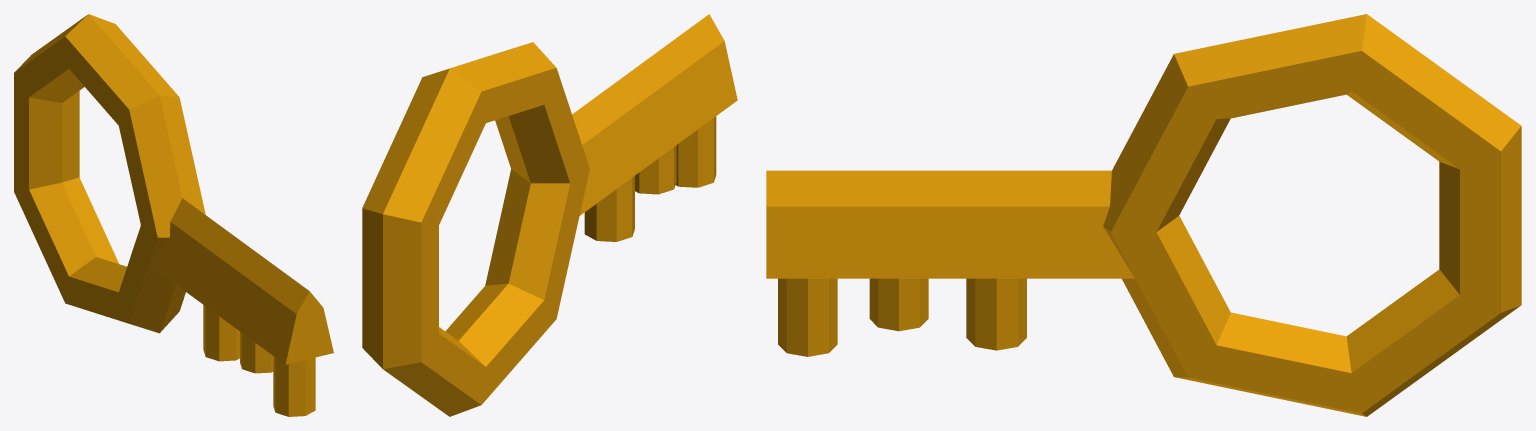
The model's file is key.fbx.
The picture shows the model from 3 angles, left to right: view 1: azimuth 30°, elevation 25°; view 2: azimuth 150°, elevation 25°; view 3: azimuth 270°, elevation 25°; orthographic projection. The views are drawn at different scales.
Parts seen in each view (by area): view 1: Torus, Cylinder.001, Cylinder.003, Cylinder.004, Cylinder.002; view 2: Torus, Cylinder.001, Cylinder.004, Cylinder.003, Cylinder.002; view 3: Torus, Cylinder.001, Cylinder.003, Cylinder.004, Cylinder.002.
Part boxes in pixels (left/top/right/bottom): Torus: left=14, top=14, right=205, bottom=333; Cylinder.001: left=150, top=198, right=333, bottom=364; Cylinder.003: left=273, top=356, right=315, bottom=416; Cylinder.004: left=203, top=305, right=239, bottom=361; Cylinder.002: left=240, top=332, right=273, bottom=373; Torus: left=362, top=42, right=589, bottom=416; Cylinder.001: left=572, top=14, right=737, bottom=215; Cylinder.004: left=584, top=176, right=634, bottom=241; Cylinder.003: left=675, top=116, right=716, bottom=187; Cylinder.002: left=635, top=145, right=676, bottom=194; Torus: left=1103, top=14, right=1521, bottom=416; Cylinder.001: left=766, top=170, right=1134, bottom=278; Cylinder.003: left=778, top=278, right=837, bottom=356; Cylinder.004: left=966, top=278, right=1026, bottom=350; Cylinder.002: left=869, top=278, right=928, bottom=331.
Size of the model in its own units: 43.3 by 244 by 414.
